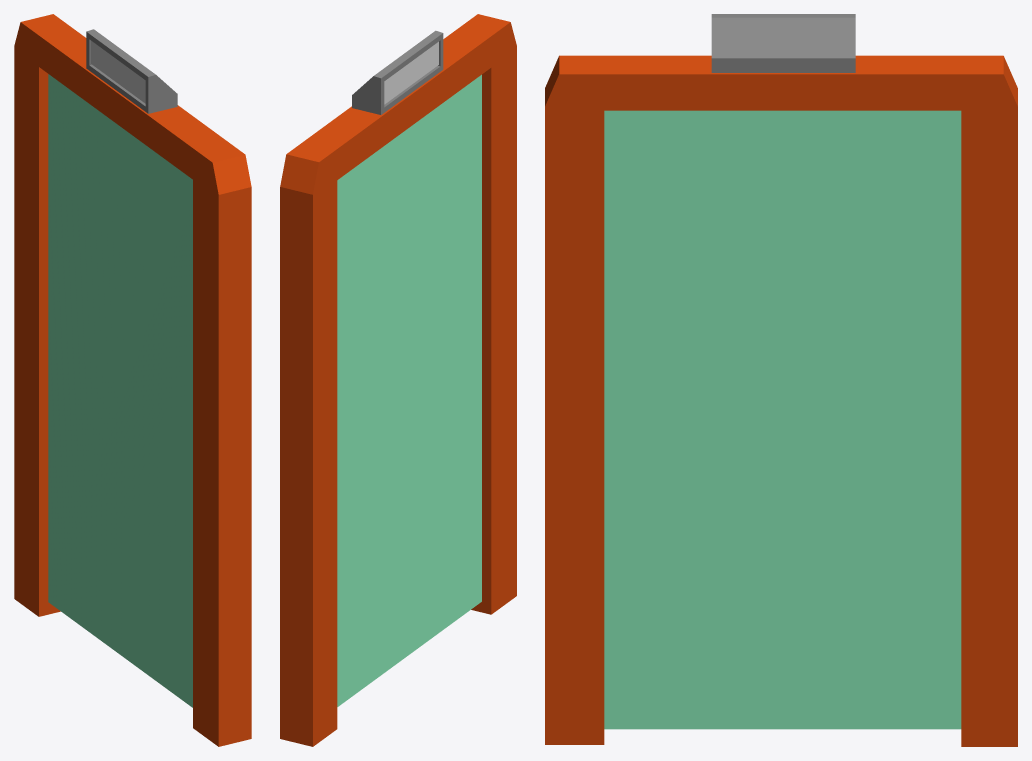
Rendered from DoorRight.fbx.
The picture shows the model from 3 angles, left to right: view 1: azimuth 30°, elevation 25°; view 2: azimuth 150°, elevation 25°; view 3: azimuth 270°, elevation 25°; orthographic projection. The views are drawn at different scales.
Parts seen in each view (by area): view 1: Cube.005, Cube.006, Cube.007, Cube.008; view 2: Cube.005, Cube.006, Cube.007, Cube.008; view 3: Cube.005, Cube.006, Cube.007.
Boxes of the visible parts, x1,y1,x2,y2 form: Cube.005: (48, 74, 192, 707); Cube.006: (14, 14, 251, 746); Cube.007: (86, 29, 177, 113); Cube.008: (91, 40, 145, 103); Cube.005: (337, 74, 481, 706); Cube.006: (280, 14, 516, 746); Cube.007: (352, 30, 443, 114); Cube.008: (384, 41, 438, 104); Cube.005: (604, 110, 961, 729); Cube.006: (545, 55, 1017, 746); Cube.007: (711, 14, 855, 72).
Bounding box in the file's own units: 19.23 × 346 × 207.
